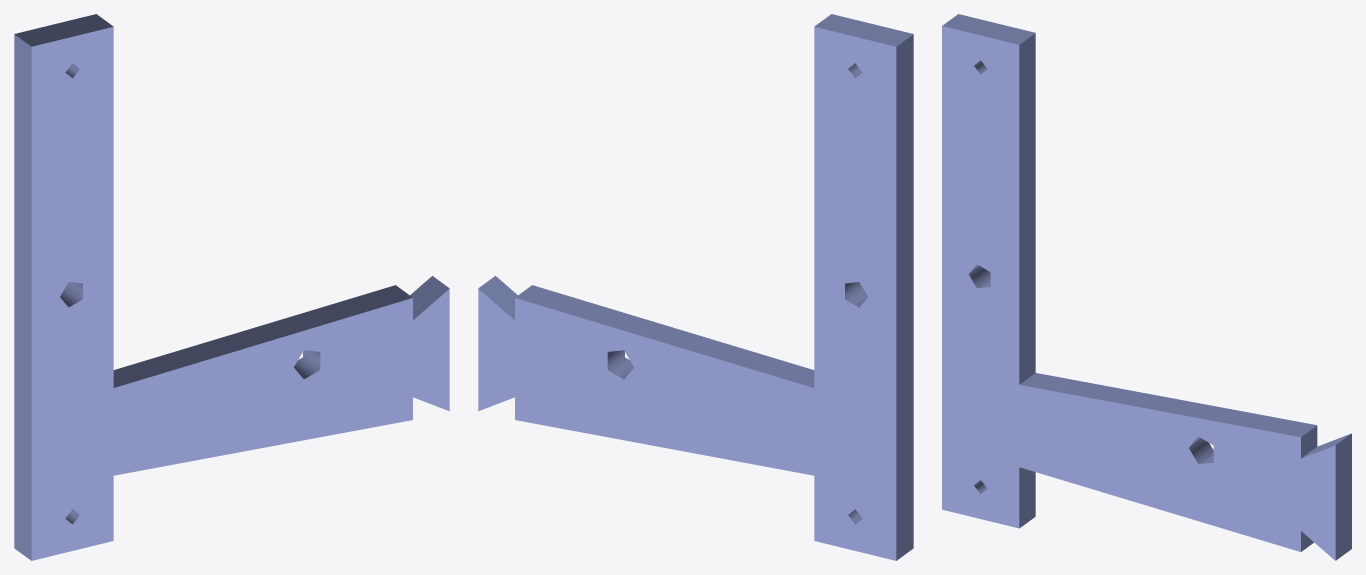
File: Copie de piece pour pilier 4^Copie de ASS pilier 4_Horloge Comtoise Verge - Sonnerie.obj
The picture shows the model from 3 angles, left to right: view 1: azimuth 30°, elevation 25°; view 2: azimuth 150°, elevation 25°; view 3: azimuth 330°, elevation 25°; orthographic projection. The views are drawn at different scales.
Parts seen in each view (by area): view 1: Face_1, Face_9, Face_6, Face_8, Face_4, Face_14; view 2: Face_18, Face_9, Face_6, Face_8, Face_4, Face_14; view 3: Face_1, Face_7, Face_6, Face_3, Face_8, Face_11.
Boxes of the visible parts, bbox=[...] form: Face_1: bbox=[31, 27, 449, 560]; Face_9: bbox=[14, 34, 31, 560]; Face_6: bbox=[113, 285, 412, 387]; Face_8: bbox=[14, 14, 113, 46]; Face_4: bbox=[410, 276, 449, 319]; Face_14: bbox=[294, 350, 320, 379]; Face_18: bbox=[478, 27, 896, 560]; Face_9: bbox=[896, 34, 913, 560]; Face_6: bbox=[515, 285, 814, 387]; Face_8: bbox=[814, 14, 913, 46]; Face_4: bbox=[478, 276, 517, 319]; Face_14: bbox=[607, 350, 633, 379]; Face_1: bbox=[942, 26, 1335, 560]; Face_7: bbox=[1019, 33, 1035, 384]; Face_6: bbox=[1020, 373, 1316, 436]; Face_3: bbox=[1335, 433, 1351, 560]; Face_8: bbox=[942, 14, 1035, 44]; Face_11: bbox=[1019, 467, 1035, 528].
Size of the model in its own units: 0.0569 by 0.0669 by 0.0041.
